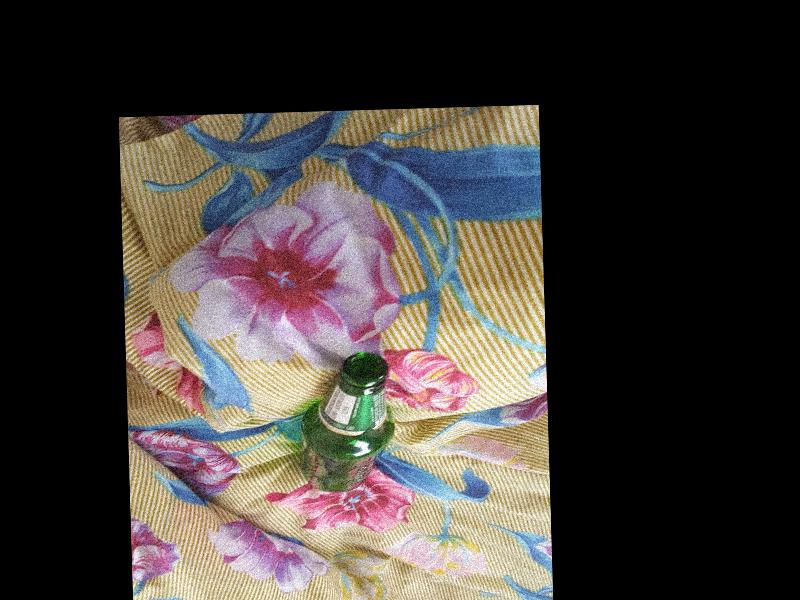Beer: (302, 351, 395, 492)
